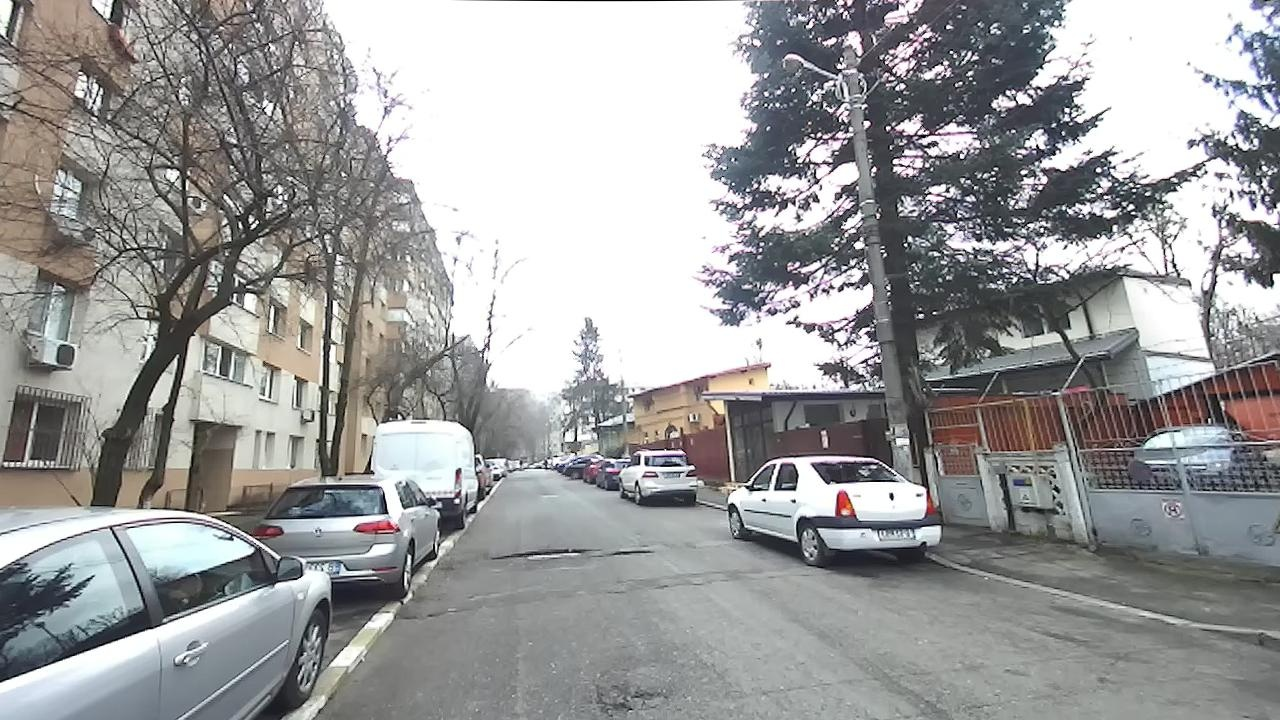pothole: (597, 685, 668, 717), (490, 547, 586, 561), (605, 550, 654, 560)
